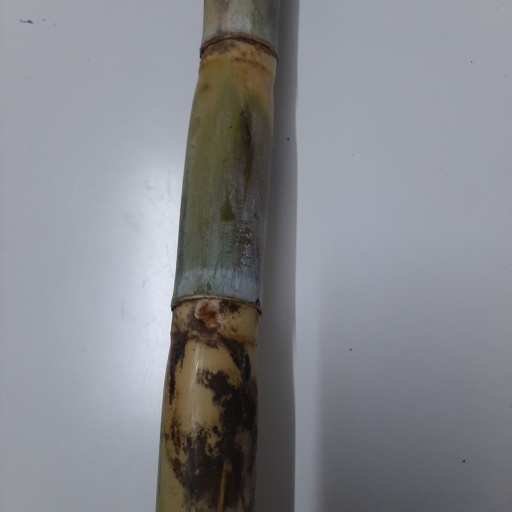Damage_Bud: (194, 298, 222, 328)
